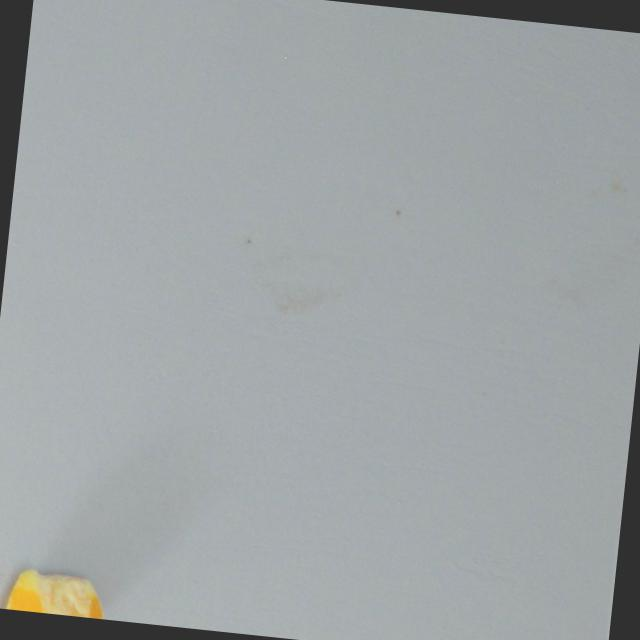pelicula: (3, 565, 108, 619)
